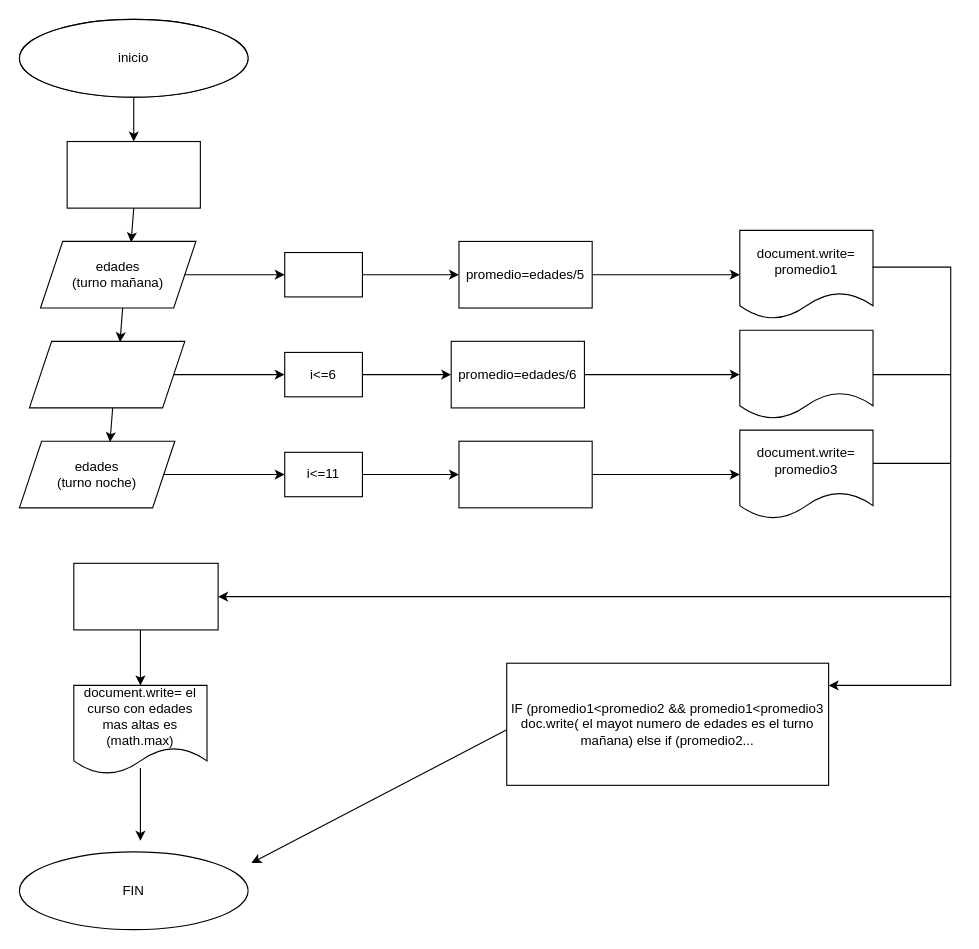
Image size: 979x949. Some labels were removed from this diagram. The shapes that lost their labels are listed below. From the top down, each one's centre as x and y in pixels, then its label:
At point (133, 174): "edad,promedio, promediomayor".
At point (323, 274): "i<=5".
At point (106, 374): "edades (turno tarde)".
At point (806, 374): "document.write= promedio2".
At point (525, 474): "promedio=edades/11".
At point (145, 596): "math.max(promedio1, promedio2,promedio3)".
